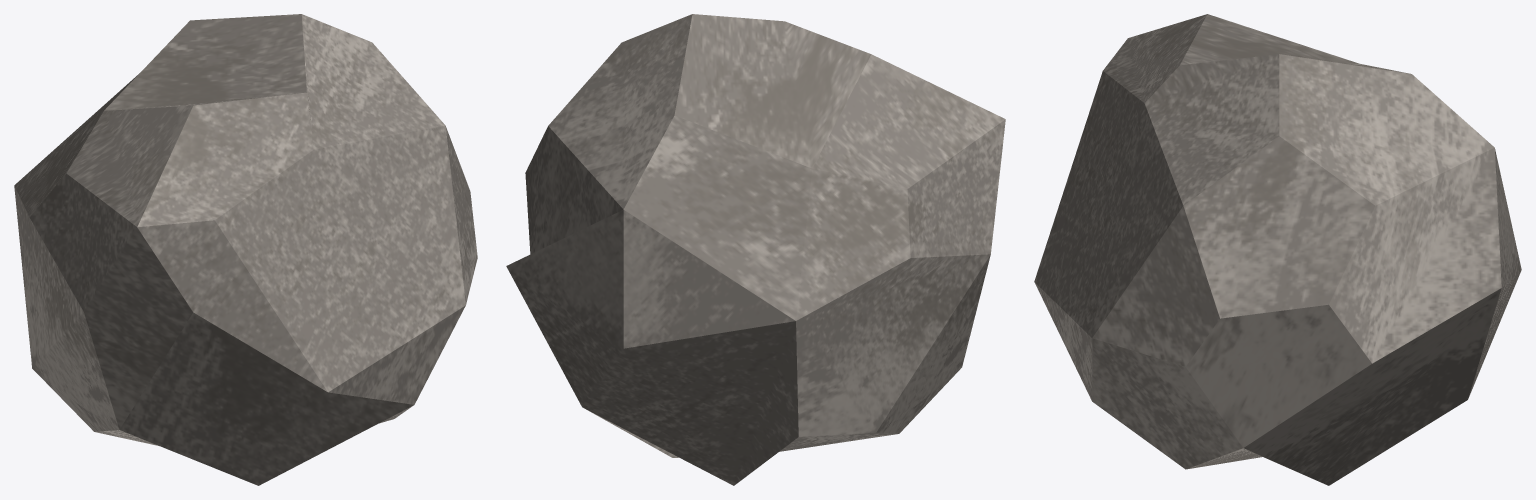
The model's file is Piedra7.fbx.
The picture shows the model from 3 angles, left to right: view 1: azimuth 30°, elevation 25°; view 2: azimuth 150°, elevation 25°; view 3: azimuth 270°, elevation 25°; orthographic projection. The views are drawn at different scales.
Parts seen in each view (by area): view 1: Piedra 8; view 2: Piedra 8; view 3: Piedra 8.
Boxes of the visible parts, <box> form: Piedra 8: <box>14,14,477,485</box>; Piedra 8: <box>506,14,1005,485</box>; Piedra 8: <box>1034,14,1521,485</box>.
Size of the model in its own units: 269 by 275 by 277.
